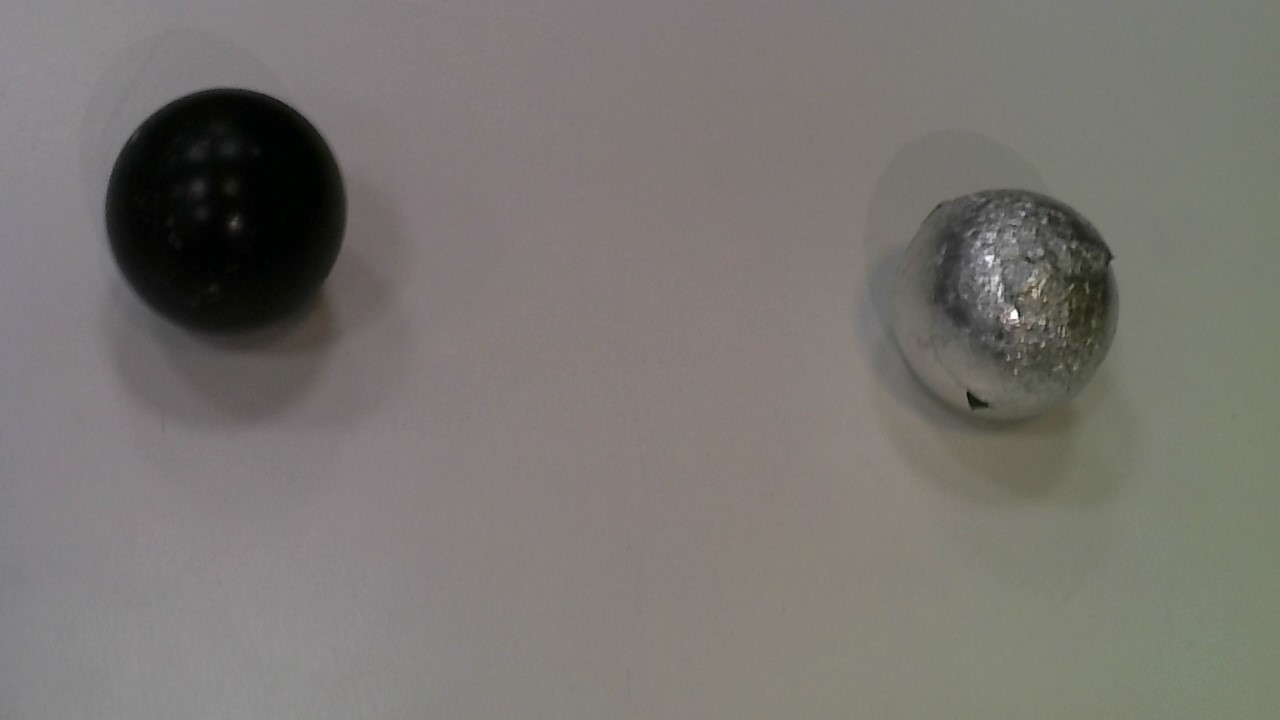black_ball: (98, 84, 358, 336)
silver_ball: (879, 186, 1131, 429)
